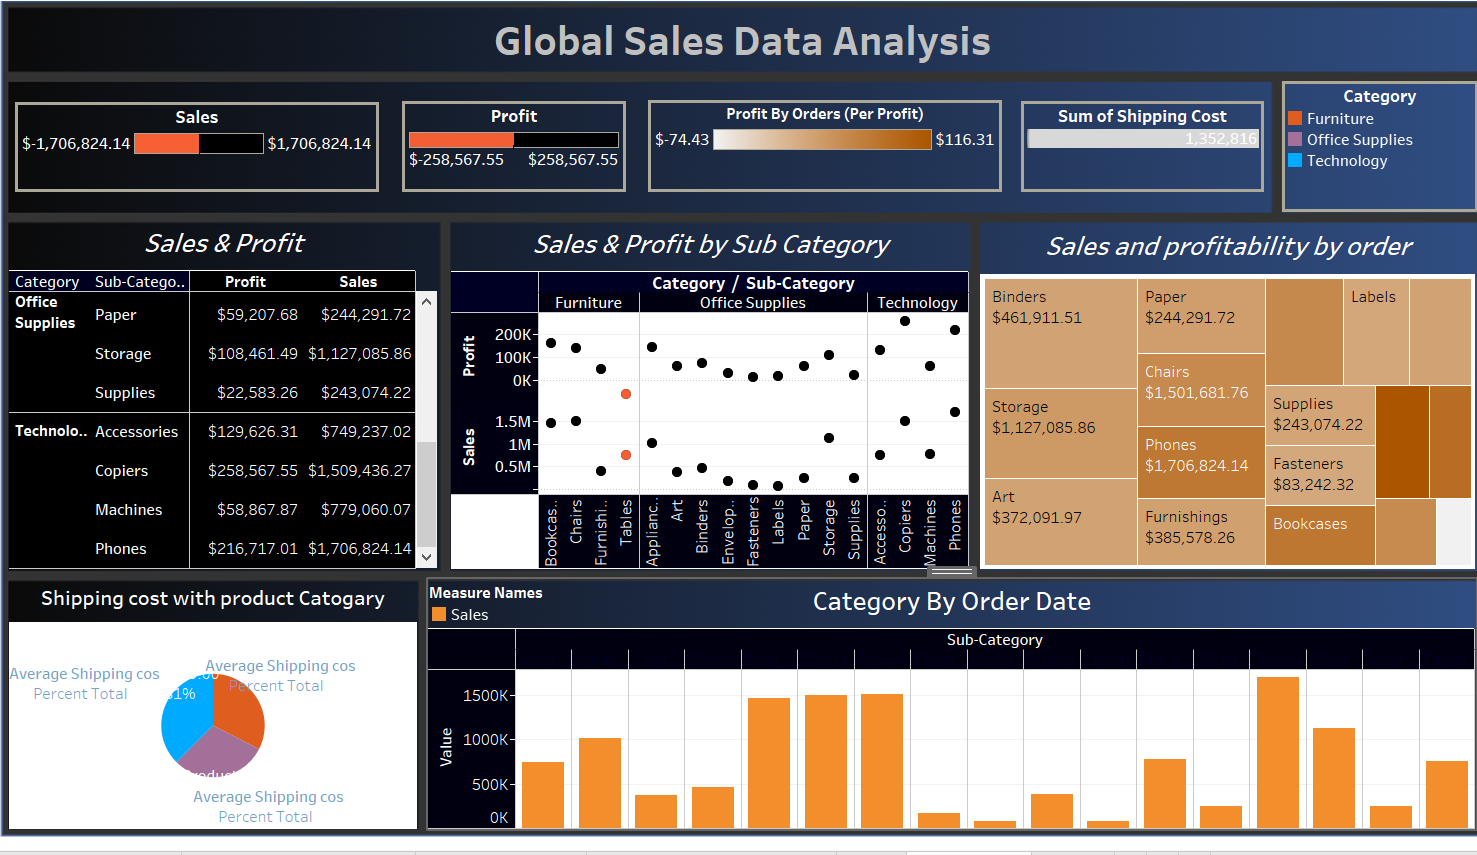

The page's visual inventory and layout, read from the dashboard file:
{"tool":"tableau","page":{"name":"Dashboard 4","canvas":[1000,1000],"units":"permille","ordinal":0},"visuals":[{"type":"image","param":"C:/Users/User/Desktop/t.PNG","box":[4.8,9.3,990.3,981.4]},{"type":"text","box":[56.7,19.7,886.5,75.5]},{"type":"legend","title":"Shipping Cost by Product Category","param":"[federated.1yizowp0e8y3ku1ctswjg15ckij7].[none:Category:nk]","box":[825.6,106.9,118.3,152.2]},{"type":"legend","title":"sales and profitability by order","param":"[federated.1yizowp0e8y3ku1ctswjg15ckij7].[usr:Calculation_341429207364165633:qk]","box":[443,128.9,213.6,106.9]},{"type":"legend","title":"Sales and profit table","param":"[federated.1yizowp0e8y3ku1ctswjg15ckij7].[sum:Profit:qk]","box":[294.5,130.1,135.2,105.7]},{"type":"legend","title":"Shipping Cost by Product Category","param":"[federated.1yizowp0e8y3ku1ctswjg15ckij7].[sum:Shipping Cost:qk]","box":[668.1,130.1,146.7,105.7]},{"type":"legend","title":"Sales and profit table","param":"[federated.1yizowp0e8y3ku1ctswjg15ckij7].[sum:Sales:qk]","box":[61,131.2,219.7,104.5]},{"type":"worksheet","title":"Sales and profit table","mark":"Automatic","rows":["Category","Sub-Category"],"box":[57.3,269.4,258.3,404.2]},{"type":"worksheet","title":"Sales and Profit bargraph","mark":"Circle","rows":["Profit","Sales"],"cols":["Category","Sub-Category"],"box":[324.1,270.6,312.6,404.2]},{"type":"worksheet","title":"sales and profitability by order","mark":"Automatic","box":[643.3,272.9,298.7,400.7]},{"type":"worksheet","title":"Shipping Cost by Product Category","mark":"Pie","box":[57.3,685.2,246.2,290.4]},{"type":"worksheet","title":"Sheet 6","mark":"Bar","cols":["Sub-Category"],"box":[310.2,685.2,632.5,290.4]},{"type":"legend","title":"Sheet 6","param":"[federated.1yizowp0e8y3ku1ctswjg15ckij7].[:Measure Names]","box":[310.8,688.7,131,52.3]}]}

Visuals, with their boxes on the dashboard's canvas, which has no fixed pixel size, in thousandths of its width and height (x1, y1, x2, y2). These are canvas units, not pixel positions in the 1477x855 screenshot, which may show the page scaled, cropped or inside an application window:
image: 5 9 995 991
text: 57 20 943 95
"Shipping Cost by Product Category" legend: 826 107 944 259
"sales and profitability by order" legend: 443 129 657 236
"Sales and profit table" legend: 294 130 430 236
"Shipping Cost by Product Category" legend: 668 130 815 236
"Sales and profit table" legend: 61 131 281 236
"Sales and profit table" worksheet: 57 269 316 674
"Sales and Profit bargraph" worksheet (Circle marks): 324 271 637 675
"sales and profitability by order" worksheet: 643 273 942 674
"Shipping Cost by Product Category" worksheet (Pie marks): 57 685 304 976
"Sheet 6" worksheet (Bar marks): 310 685 943 976
"Sheet 6" legend: 311 689 442 741
